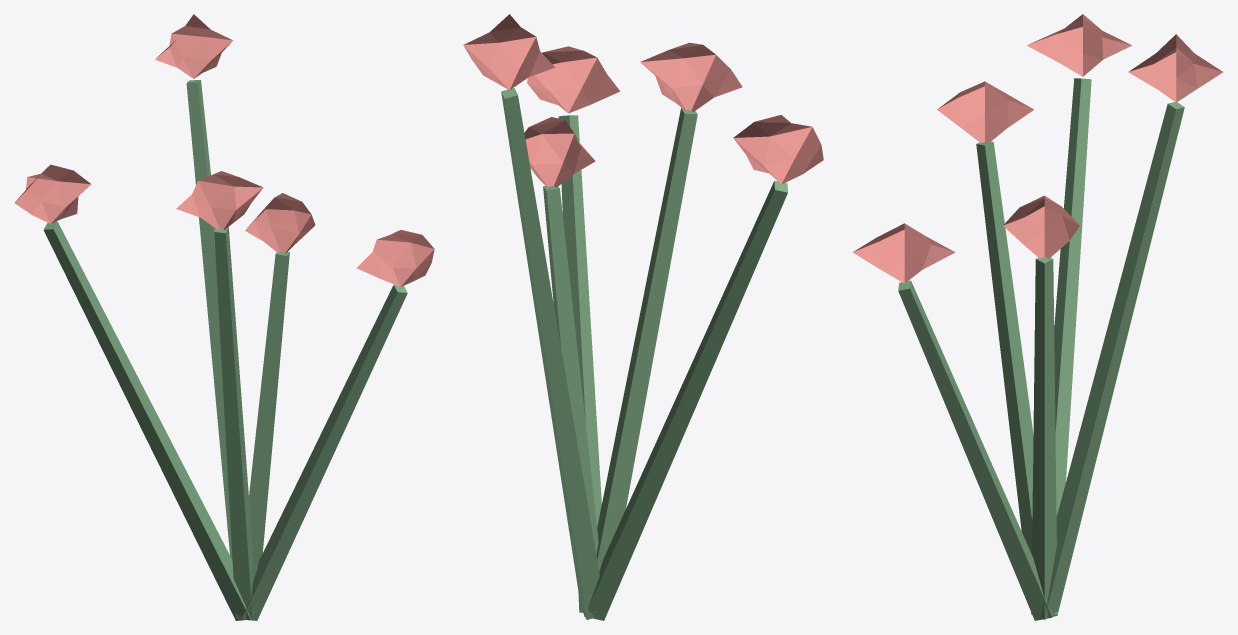
File: flower_v19.glb
The picture shows the model from 3 angles, left to right: view 1: azimuth 30°, elevation 25°; view 2: azimuth 150°, elevation 25°; view 3: azimuth 270°, elevation 25°; orthographic projection. The views are drawn at different scales.
Visible parts, largest first — view 1: lod0; view 2: lod0; view 3: lod0.
Boxes of the visible parts, x1,y1,x2,y2 form: lod0: (14,14,434,620); lod0: (463,14,823,620); lod0: (852,14,1223,620).
Size of what is drawn, in the model's own units: 0.558 by 0.8847 by 0.5052.
